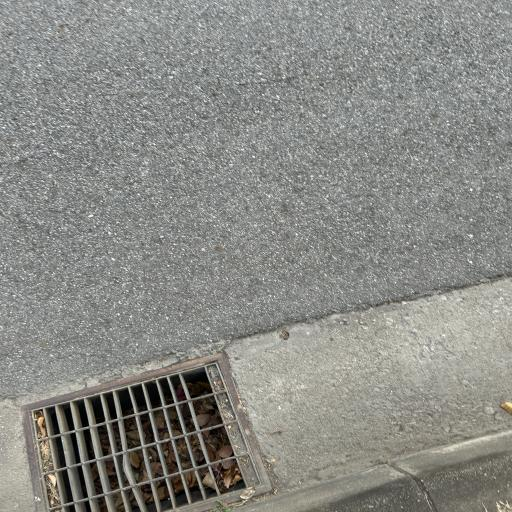debris: (195, 396, 223, 424), (205, 431, 227, 459), (221, 460, 241, 488), (191, 435, 206, 462), (38, 440, 51, 471), (178, 439, 192, 467), (165, 444, 177, 473), (156, 411, 168, 438), (170, 409, 182, 436), (48, 475, 59, 503), (108, 460, 118, 489), (128, 422, 140, 445), (188, 383, 211, 395), (143, 422, 155, 442), (216, 444, 232, 458), (102, 430, 112, 452), (92, 467, 101, 491), (197, 413, 210, 427), (202, 474, 214, 489), (129, 452, 140, 468), (172, 476, 183, 492), (138, 466, 148, 483), (151, 462, 162, 476), (158, 485, 168, 500), (115, 493, 123, 511), (185, 473, 195, 487), (178, 385, 187, 400), (37, 417, 44, 436), (144, 493, 153, 502), (188, 420, 195, 431)
drain: (20, 351, 270, 511)
